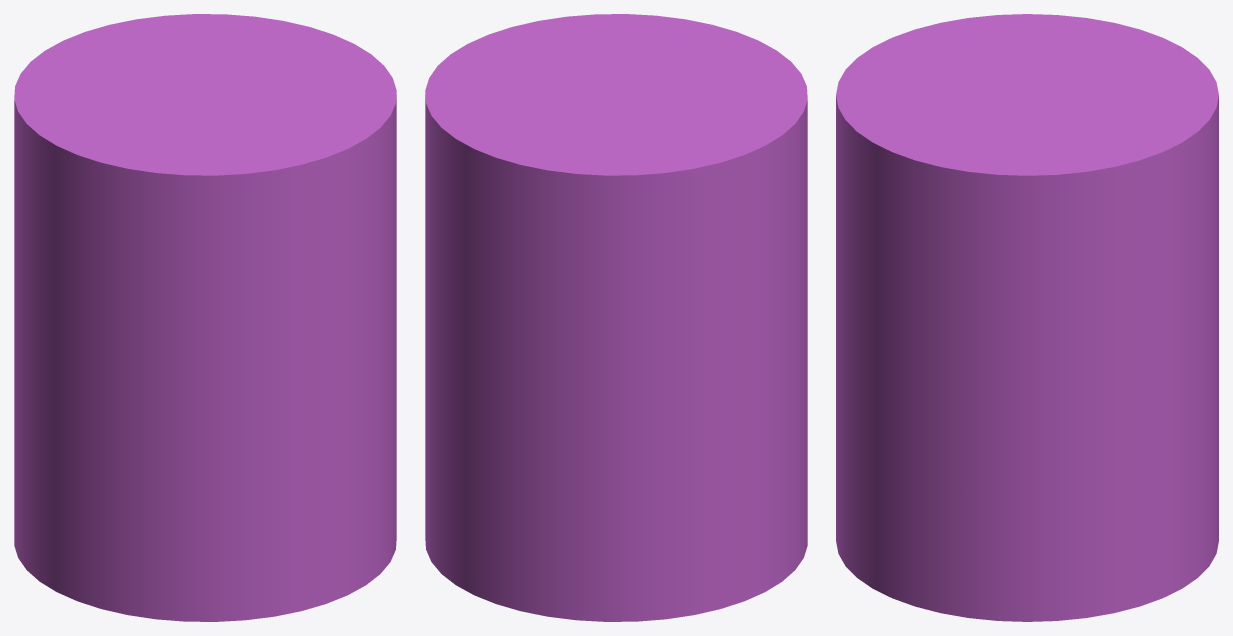
The picture shows the model from 3 angles, left to right: view 1: azimuth 30°, elevation 25°; view 2: azimuth 150°, elevation 25°; view 3: azimuth 270°, elevation 25°; orthographic projection.
Size of the model in its own units: 0.7 by 0.9 by 0.7.
